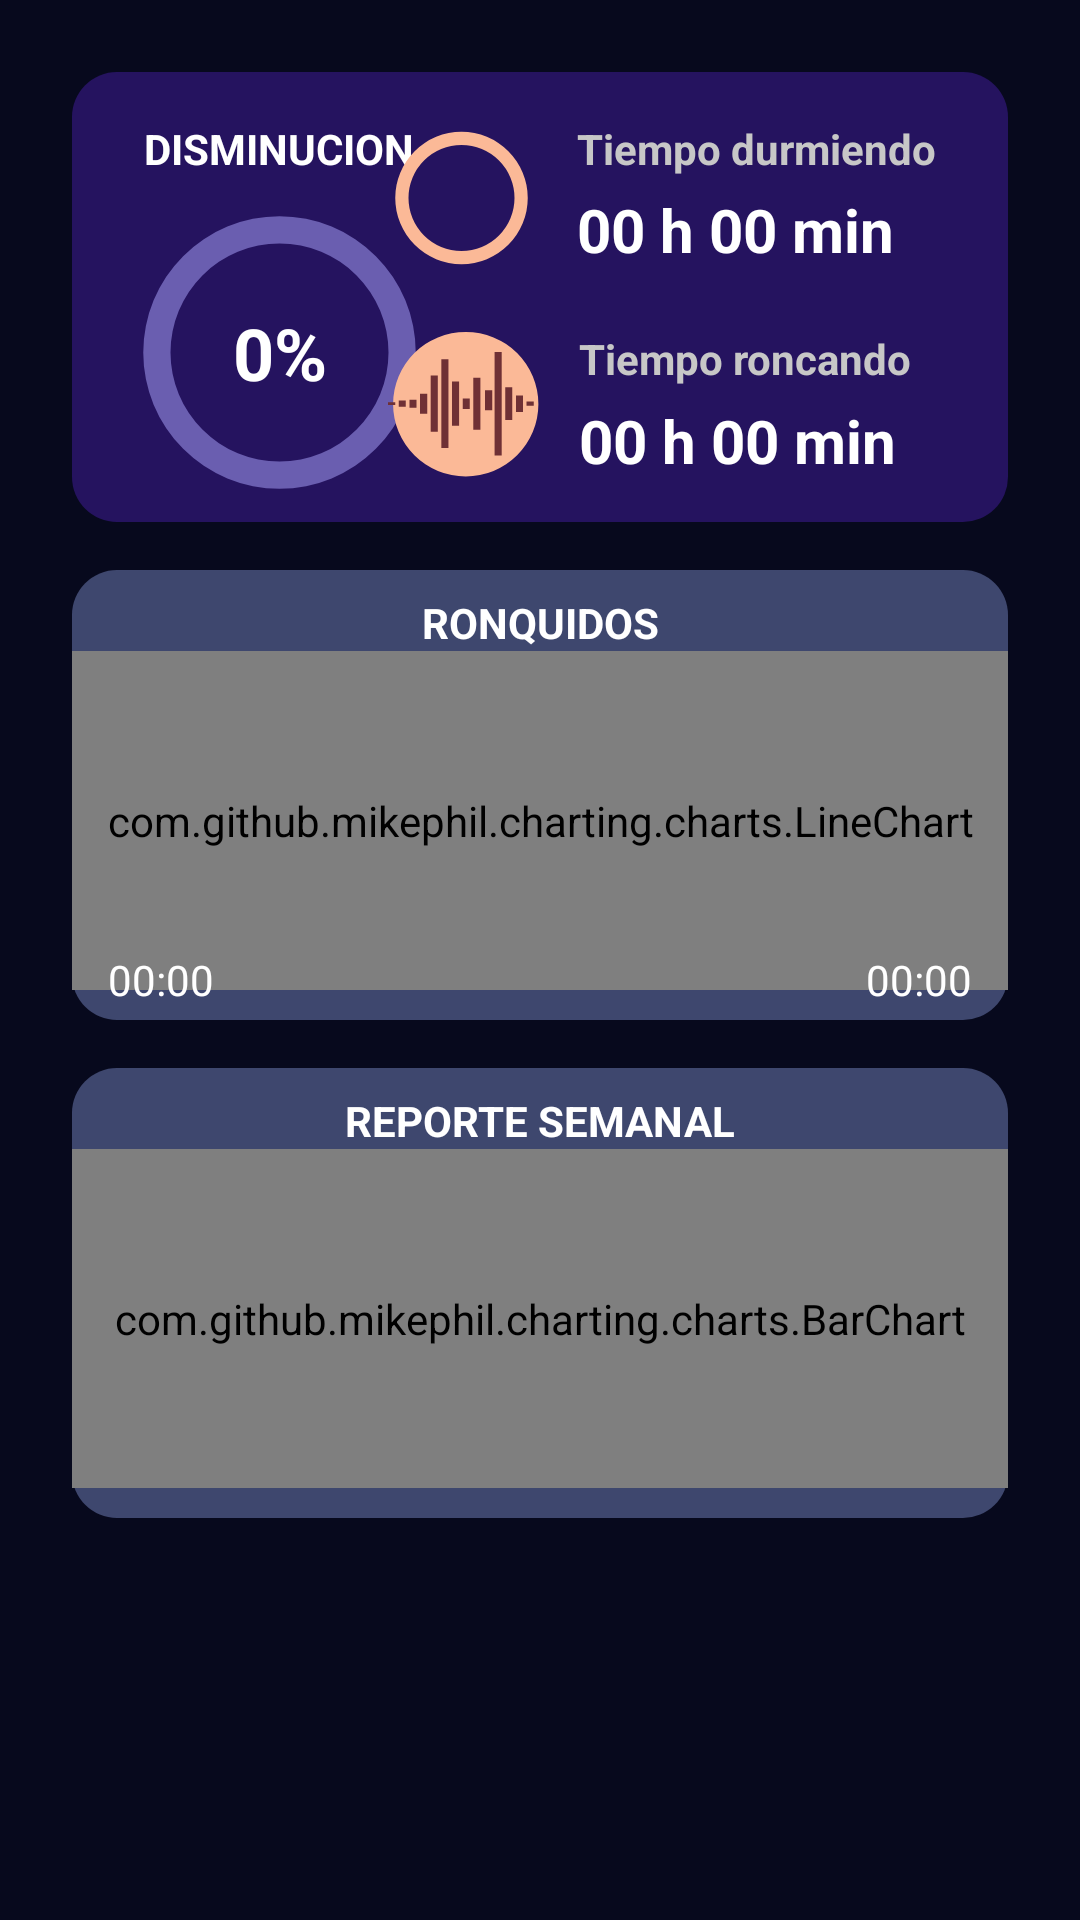

Screen size 1080×1920. Icon name, then its center in pixels as [x,y]:
circle roncando: [461,401]
